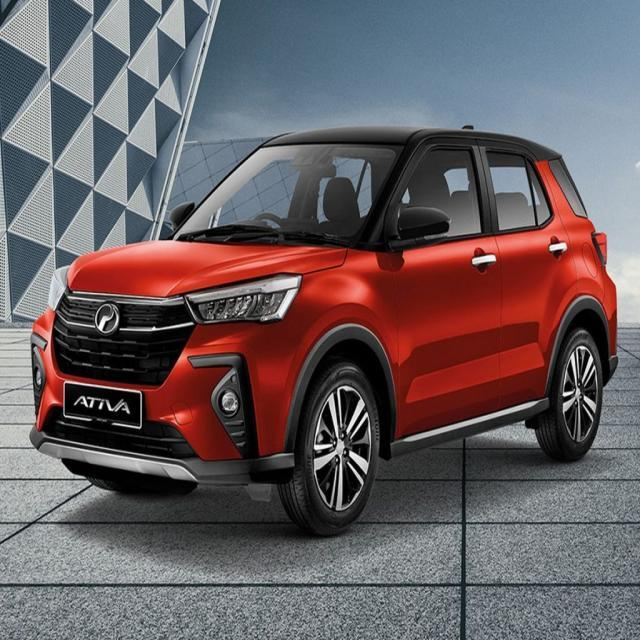PeroduaAtiva: (28, 122, 620, 537)
